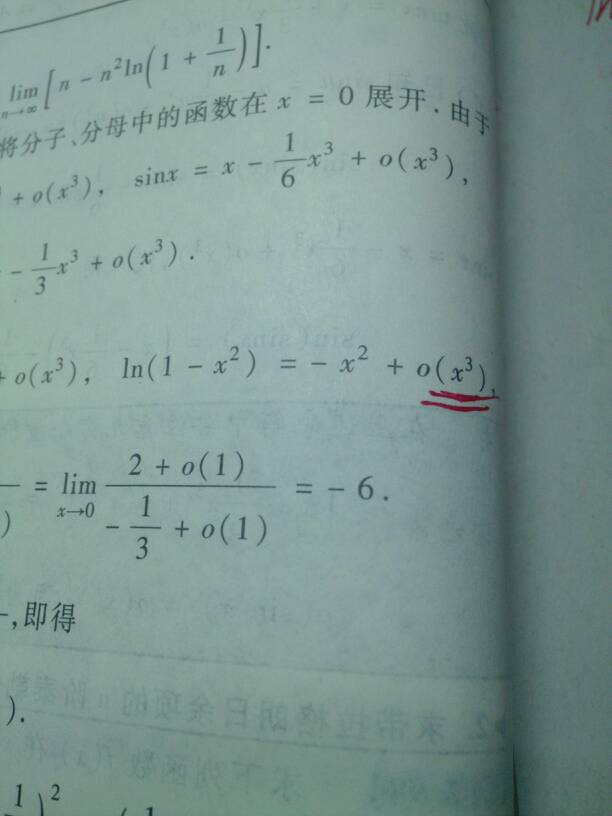cube: (65, 246, 86, 271), (463, 348, 478, 376), (150, 232, 165, 256), (321, 136, 337, 158), (426, 142, 440, 165), (65, 171, 82, 189), (54, 354, 69, 372)
